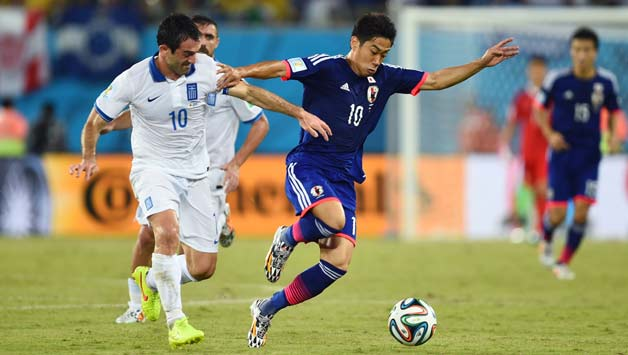football: (386, 297, 439, 345)
